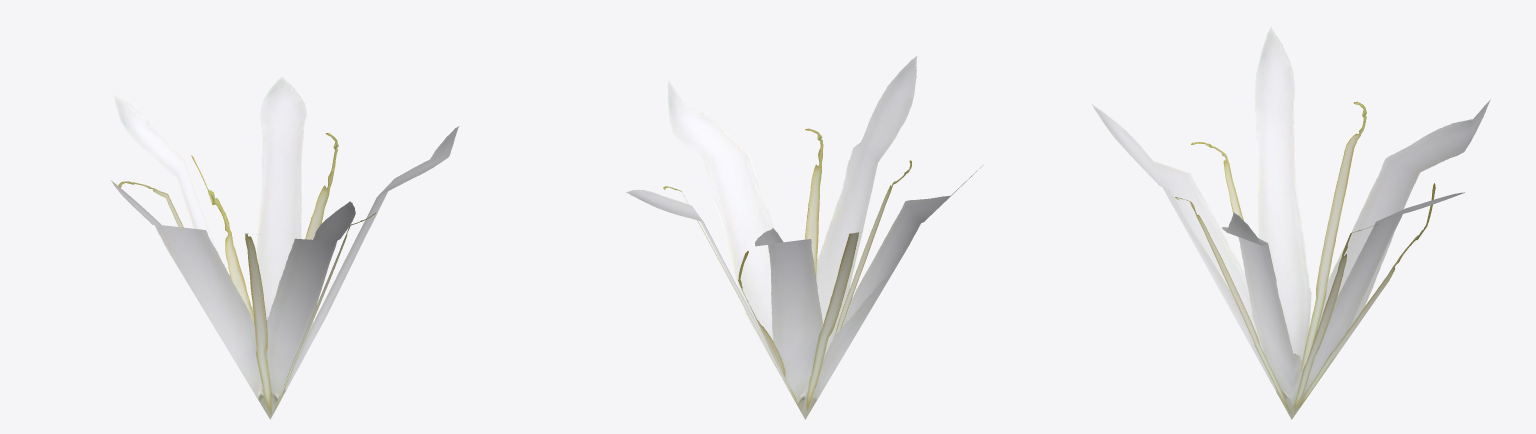
File: flower_ARgame.fbx
3 views of the same model, side by side, from view 1: azimuth 30°, elevation 25°; view 2: azimuth 150°, elevation 25°; view 3: azimuth 270°, elevation 25° (orthographic). The views are drawn at different scales.
Visible parts, largest first — view 1: flowerFront; view 2: flowerFront; view 3: flowerFront.
Boxes of the visible parts, left/top/right/bottom form: flowerFront: left=111, top=76, right=458, bottom=419; flowerFront: left=626, top=56, right=982, bottom=419; flowerFront: left=1091, top=26, right=1490, bottom=419.
Size of the model in its own units: 2.06 by 1.63 by 2.06.
